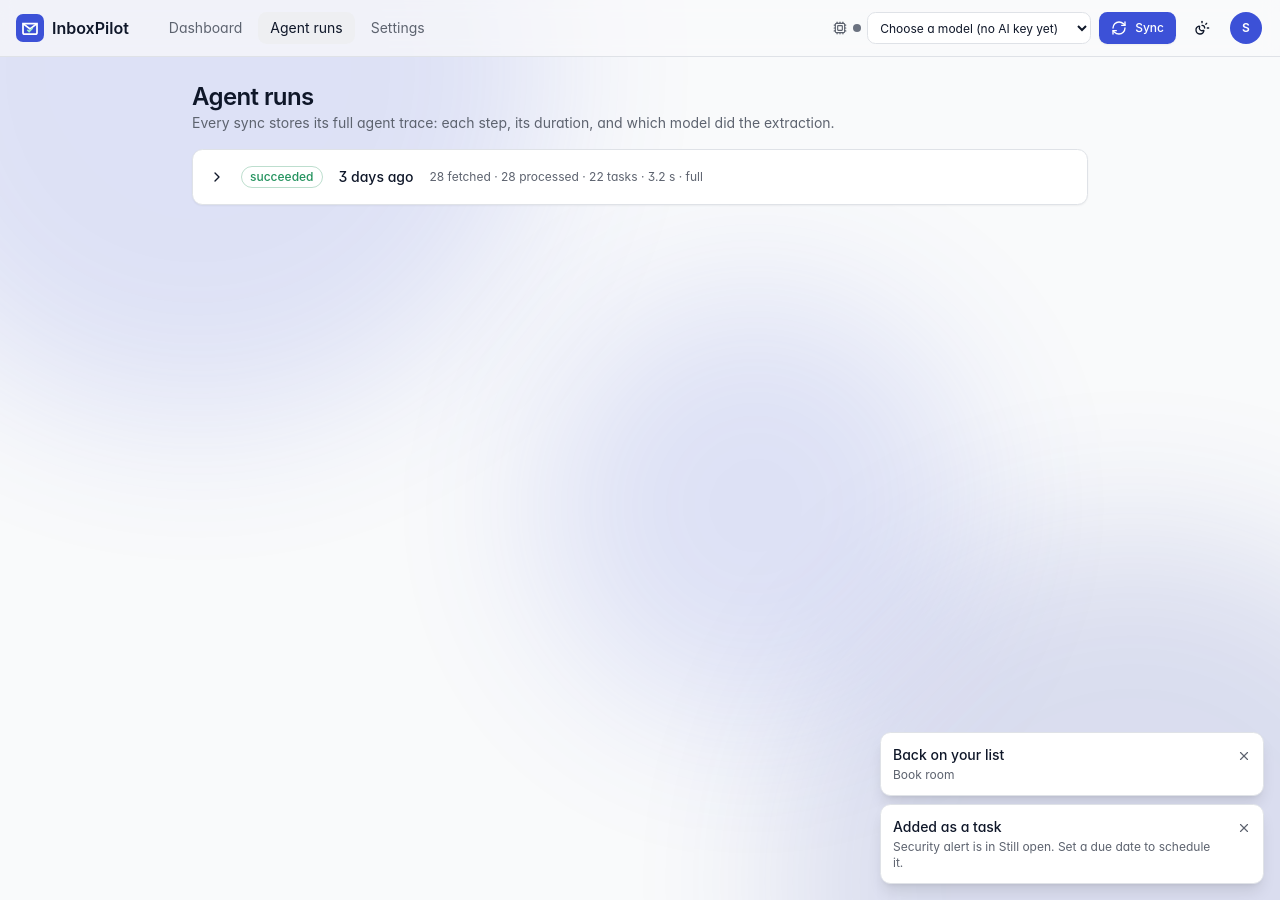
it: runs page + provider badge › lists runs with their trace and models
Click the text "28 fetched · 28 processed · 22 tasks · 3.2 s · full" at (566, 177), box x1=430 y1=169 x2=703 y2=185
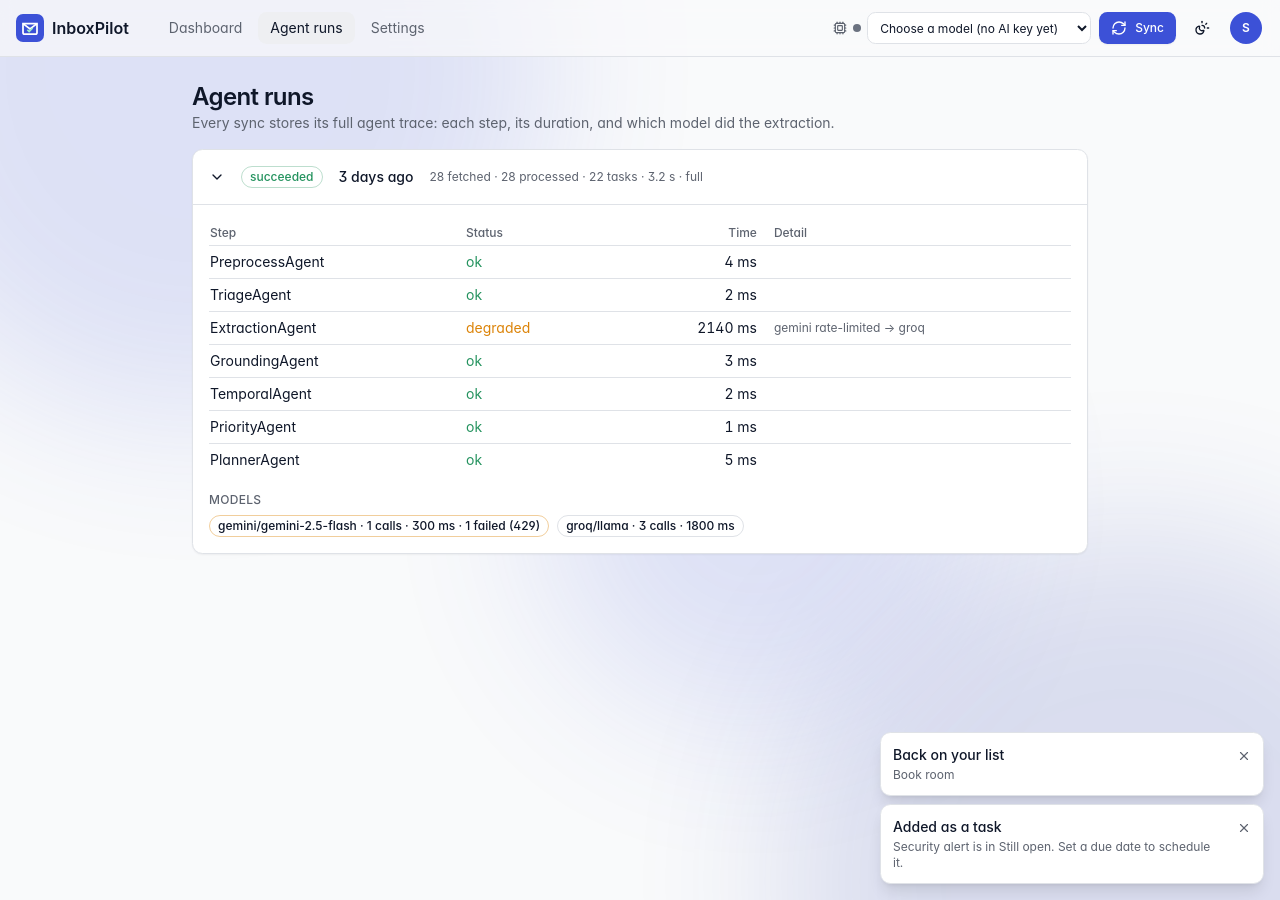
Expected: the table named "Agent trace" is shown, x1=209 y1=221 x2=1071 y2=476
Expected: the text "ExtractionAgent" is shown, x1=209 y1=312 x2=465 y2=344
Expected: the text "gemini/gemini-2.5-flash · 1 calls · 300 ms · 1 failed (429)" is shown, x1=209 y1=515 x2=549 y2=537
